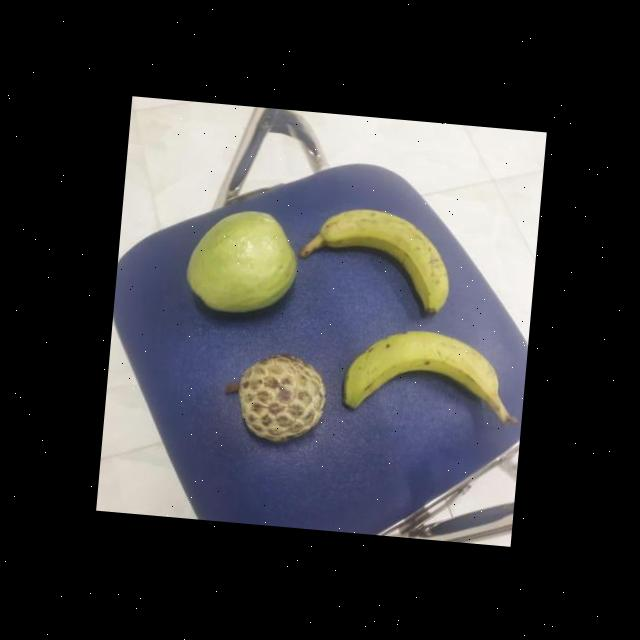Sakya fruit: (219, 348, 326, 443)
banana: (290, 202, 452, 315), (334, 323, 503, 422)
guava: (178, 208, 300, 316)
